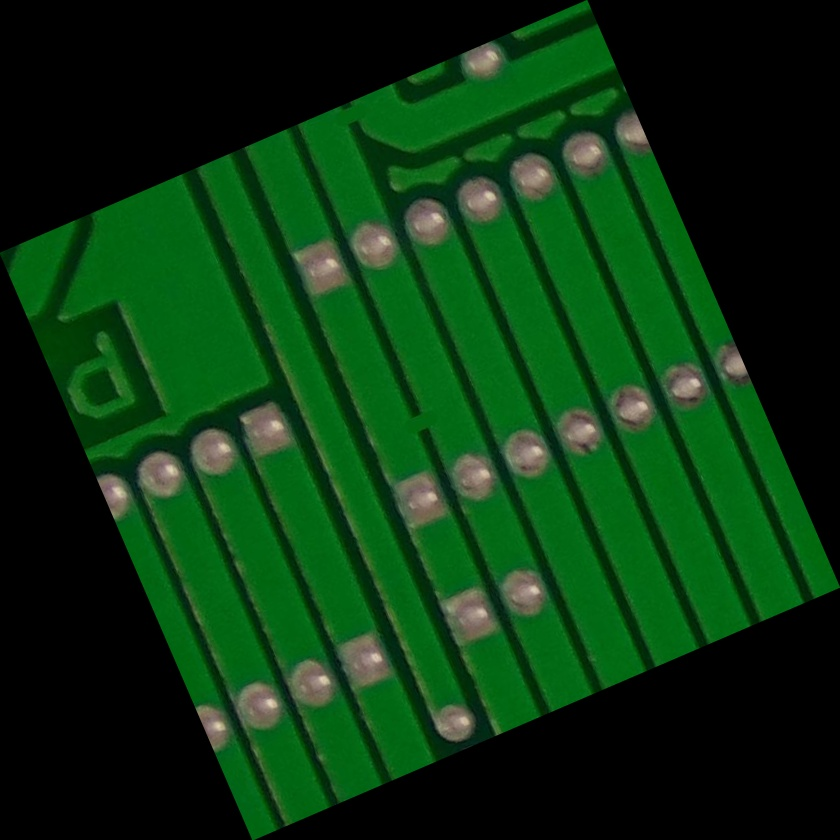short: (368, 369, 473, 471)
